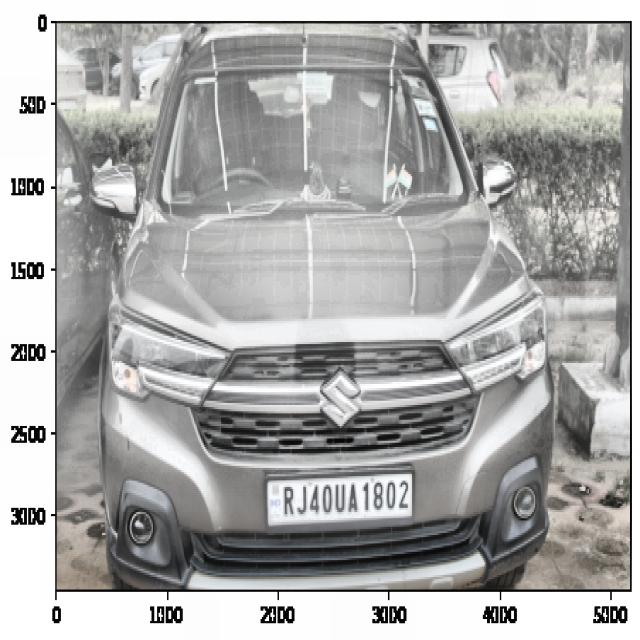license_plate: (276, 476, 412, 523)
